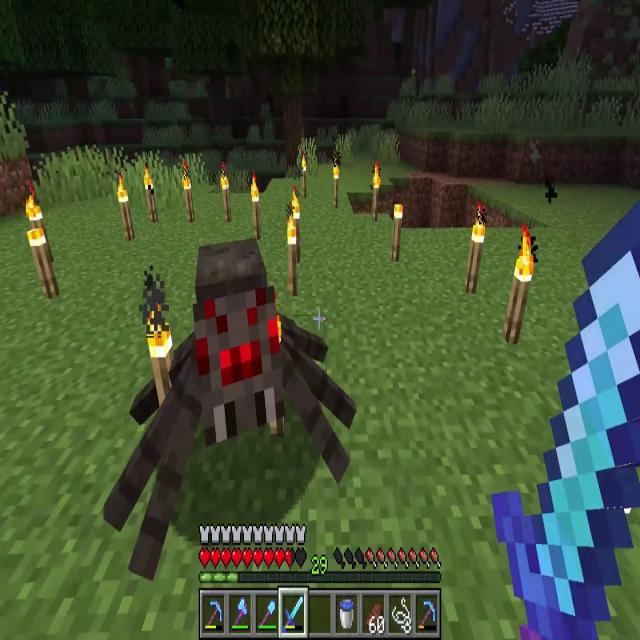Spider: (101, 229, 357, 586)
